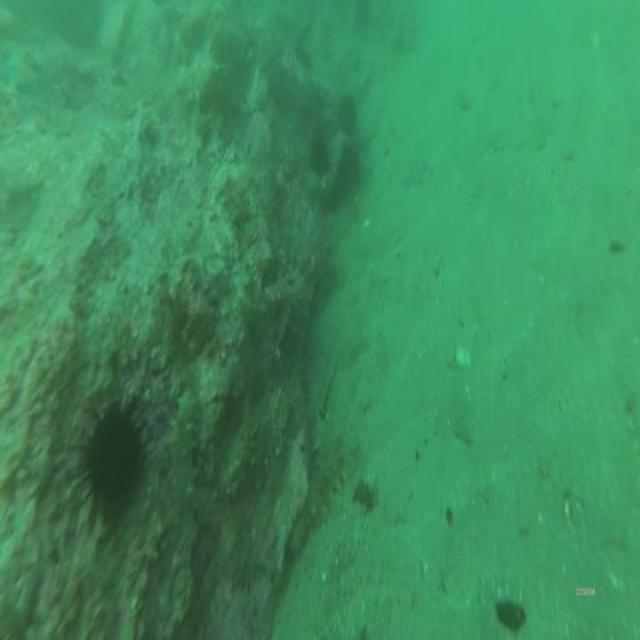echinus: (85, 414, 143, 518), (338, 141, 362, 191), (335, 92, 359, 136), (308, 132, 330, 178)
holothurian: (307, 414, 348, 539), (169, 387, 199, 520)
